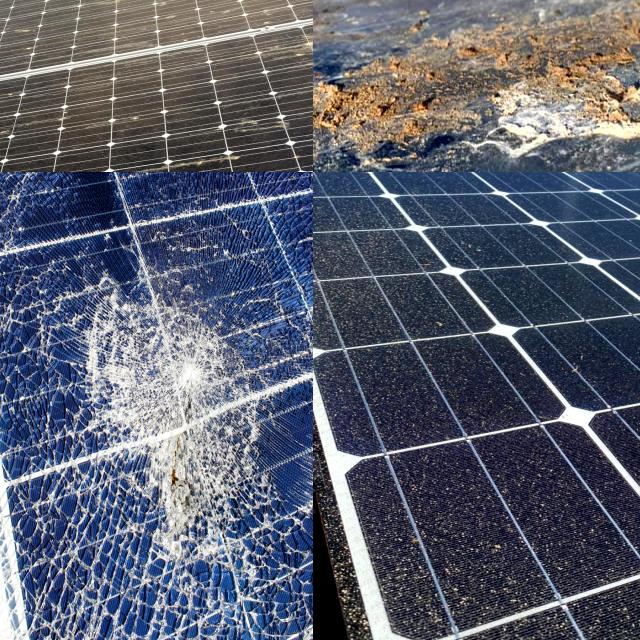bird: (457, 12, 640, 141), (313, 11, 429, 156), (247, 22, 313, 63)
dust: (400, 448, 548, 624), (336, 343, 484, 438), (313, 229, 417, 338), (582, 577, 640, 640)
hotspot: (77, 255, 266, 569), (43, 591, 213, 640), (240, 592, 313, 640)
